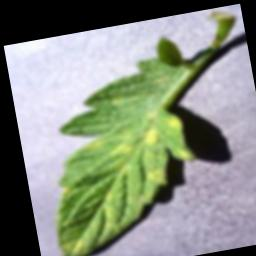Leaf_Mold: (144, 164, 169, 188), (139, 123, 162, 149), (110, 141, 140, 160), (60, 236, 88, 256), (80, 137, 107, 152), (164, 112, 184, 131), (60, 184, 74, 200)
